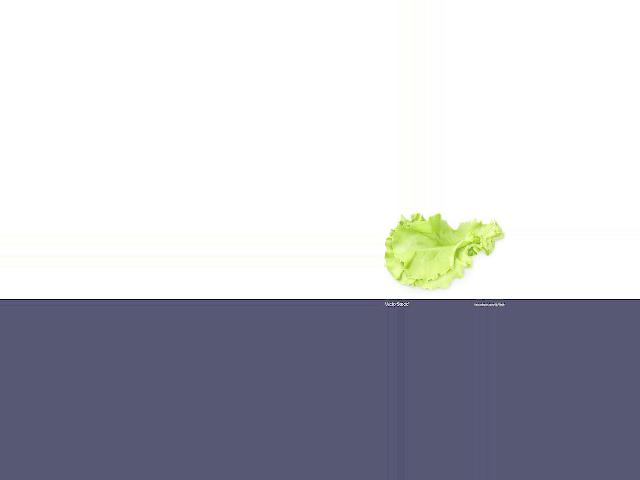lettuce: (384, 212, 501, 296)
